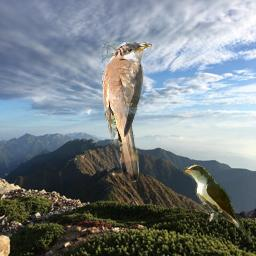Cuckoo: (102, 42, 152, 182), (183, 163, 252, 243)
